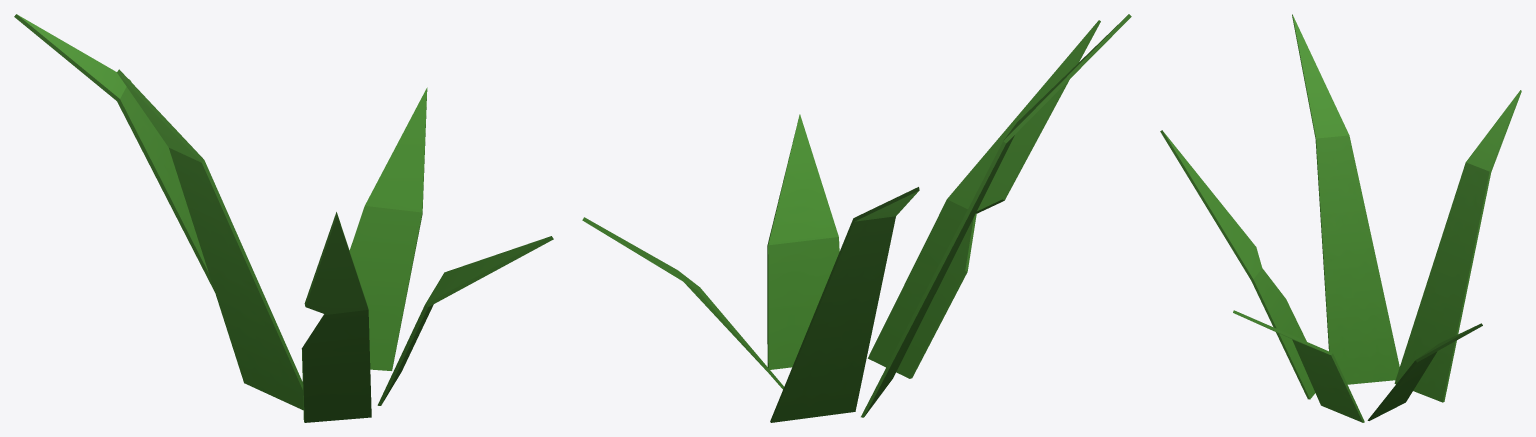
Rendered from grass_patch_03_solidified.fbx.
3 views of the same model, side by side, from view 1: azimuth 30°, elevation 25°; view 2: azimuth 150°, elevation 25°; view 3: azimuth 270°, elevation 25° (orthographic). The views are drawn at different scales.
Visible parts, largest first — view 1: grass_patch_03_solidified; view 2: grass_patch_03_solidified; view 3: grass_patch_03_solidified.
Part boxes in pixels (x1,y1,x2,y2): grass_patch_03_solidified: (14, 14, 553, 422); grass_patch_03_solidified: (582, 14, 1131, 422); grass_patch_03_solidified: (1160, 14, 1521, 422).
Size of the model in its own units: 1 by 0.9 by 1.
Materials: 1 (1 with a texture image).
